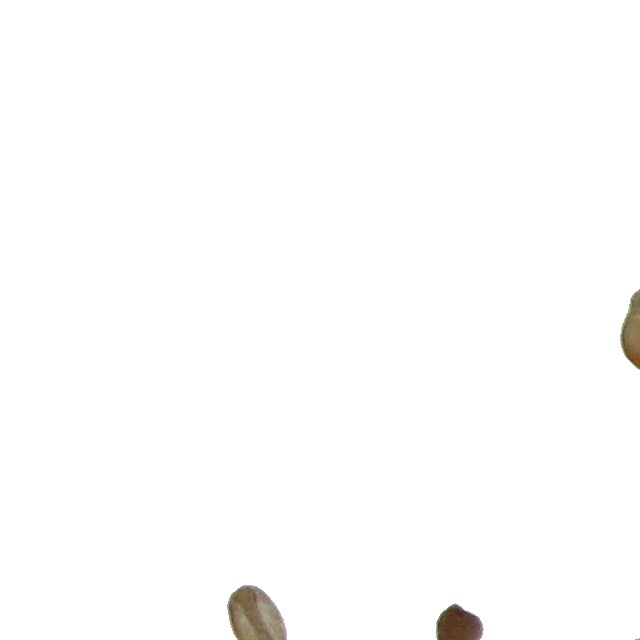buckwheat: (435, 602, 485, 640)
mais: (619, 284, 640, 378), (604, 636, 640, 640)
other: (226, 584, 288, 640)
